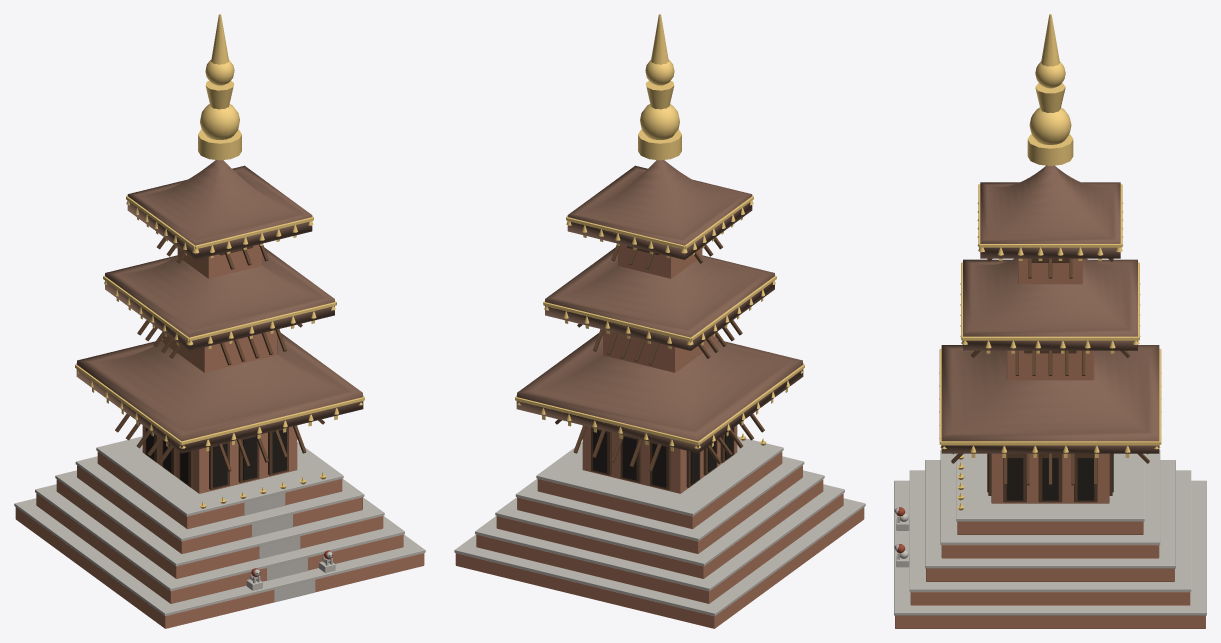
Rendered from pagoda3.glb.
3 renders of one model, left to right at view 1: azimuth 30°, elevation 25°; view 2: azimuth 150°, elevation 25°; view 3: azimuth 270°, elevation 25°, orthographic. The views are drawn at different scales.
Visible parts, largest first — view 1: pagoda3; view 2: pagoda3; view 3: pagoda3.
Part boxes in pixels (x1,y1,x2,y2): pagoda3: (14,14,425,628); pagoda3: (454,14,865,628); pagoda3: (894,14,1206,628).
Bounding box in the file's own units: 1.01 × 1.95 × 1.01.
